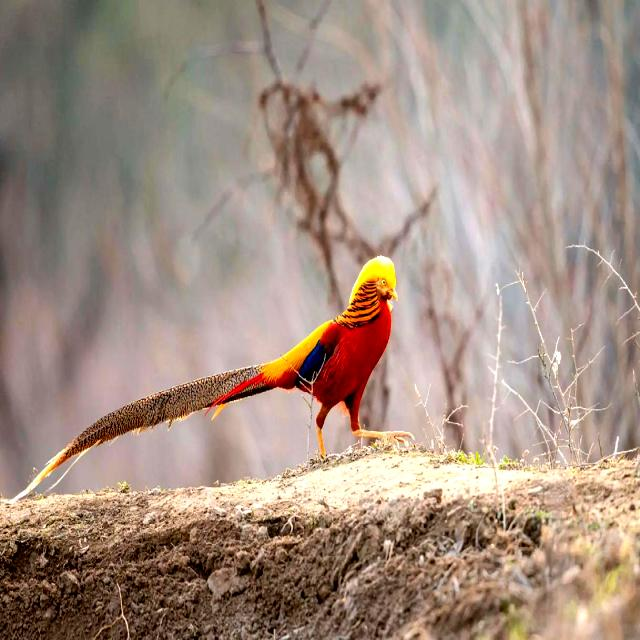Chrysolophus pictus feather: (9, 365, 278, 502)
